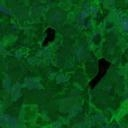alloviz: (86, 57, 112, 90), (41, 25, 56, 47)
